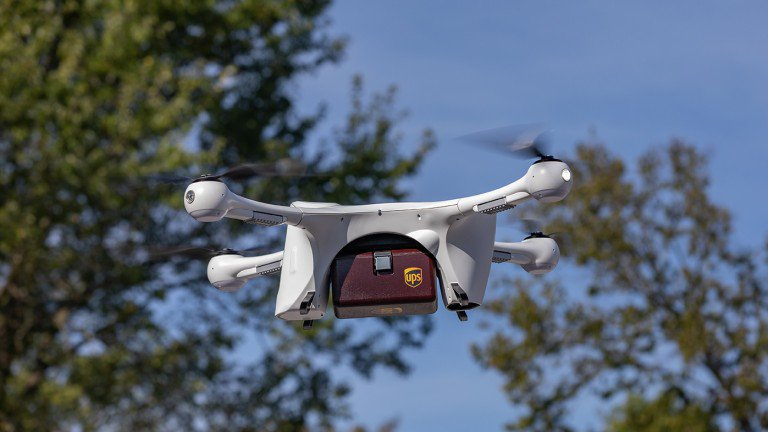drone: (125, 148, 622, 339)
